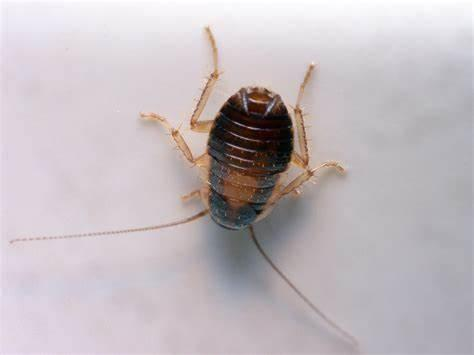cockroach: (184, 76, 312, 237)
